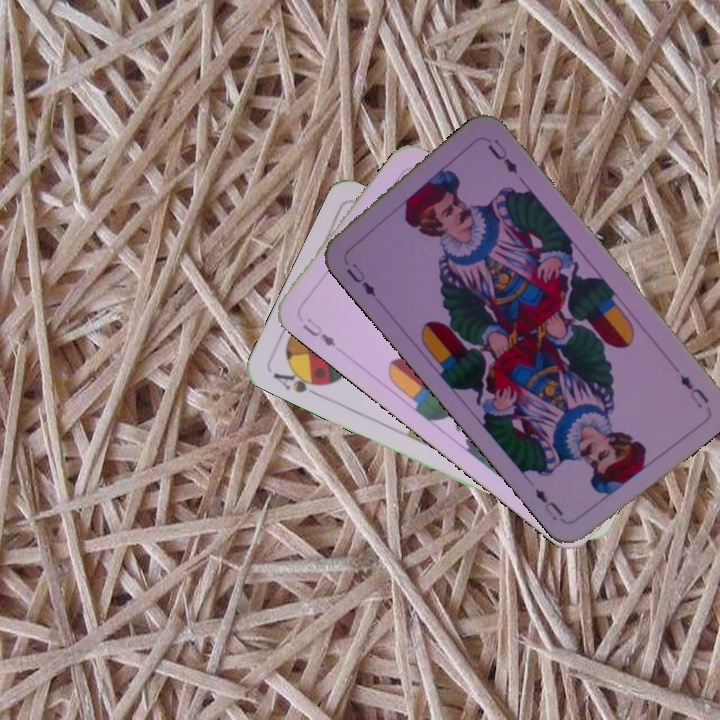EU: (342, 258, 379, 299), (675, 370, 712, 411), (298, 313, 338, 349)
SA: (269, 362, 328, 401)
